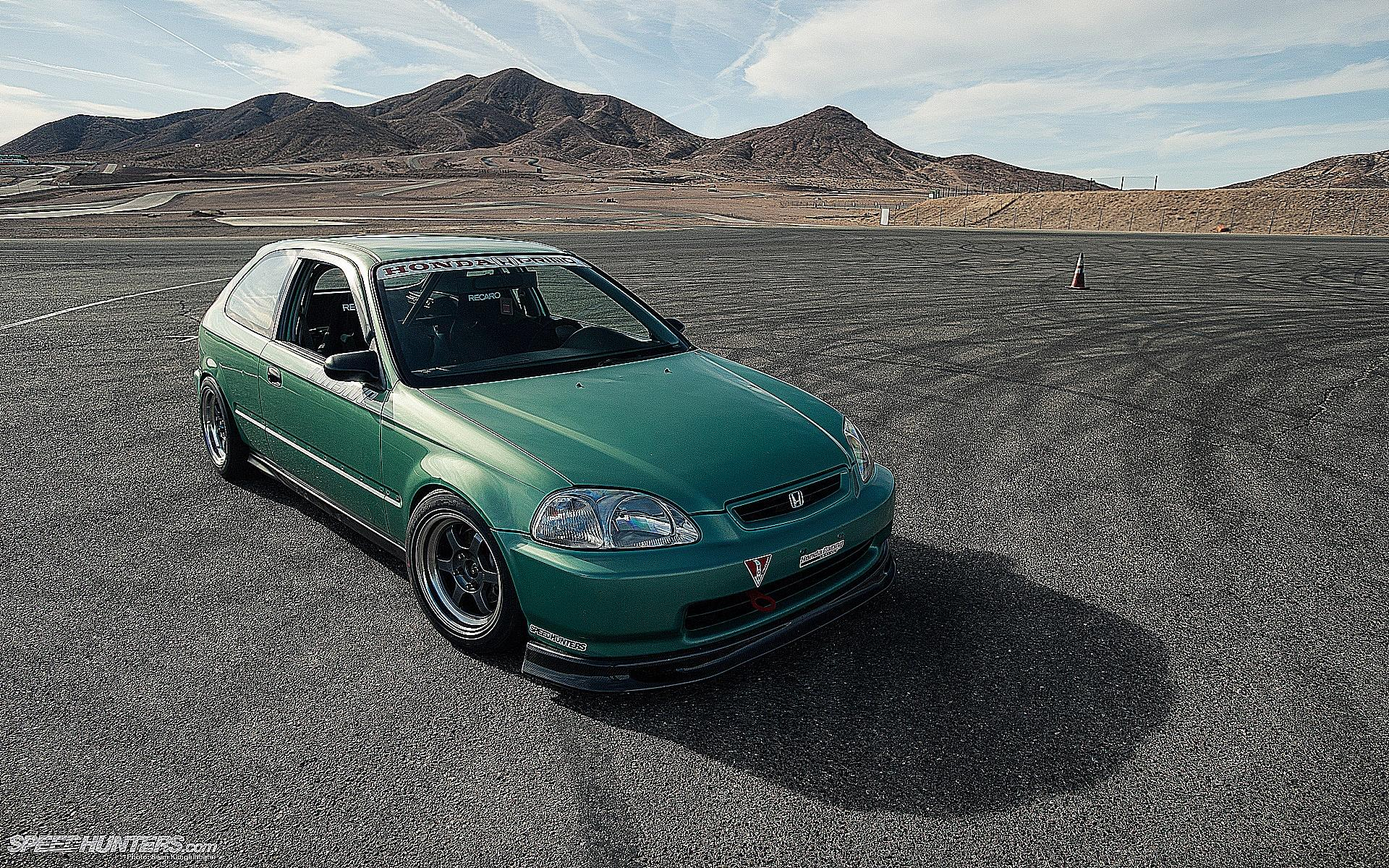Car hood: (421, 344, 856, 516)
Driver-s door - -F-R-: (256, 235, 386, 535)
Fender - -F-R-: (382, 382, 570, 544)
Fender - -R-R-: (190, 308, 268, 474)
Front bumper: (492, 505, 933, 701)
Headlight - -L-: (835, 407, 882, 497)
Headlight - -R-: (518, 476, 707, 558)
Side bumper - -R-: (226, 443, 419, 575)
Side mirror - -L-: (635, 308, 696, 357)
Side mirror - -R-: (310, 334, 385, 399)
